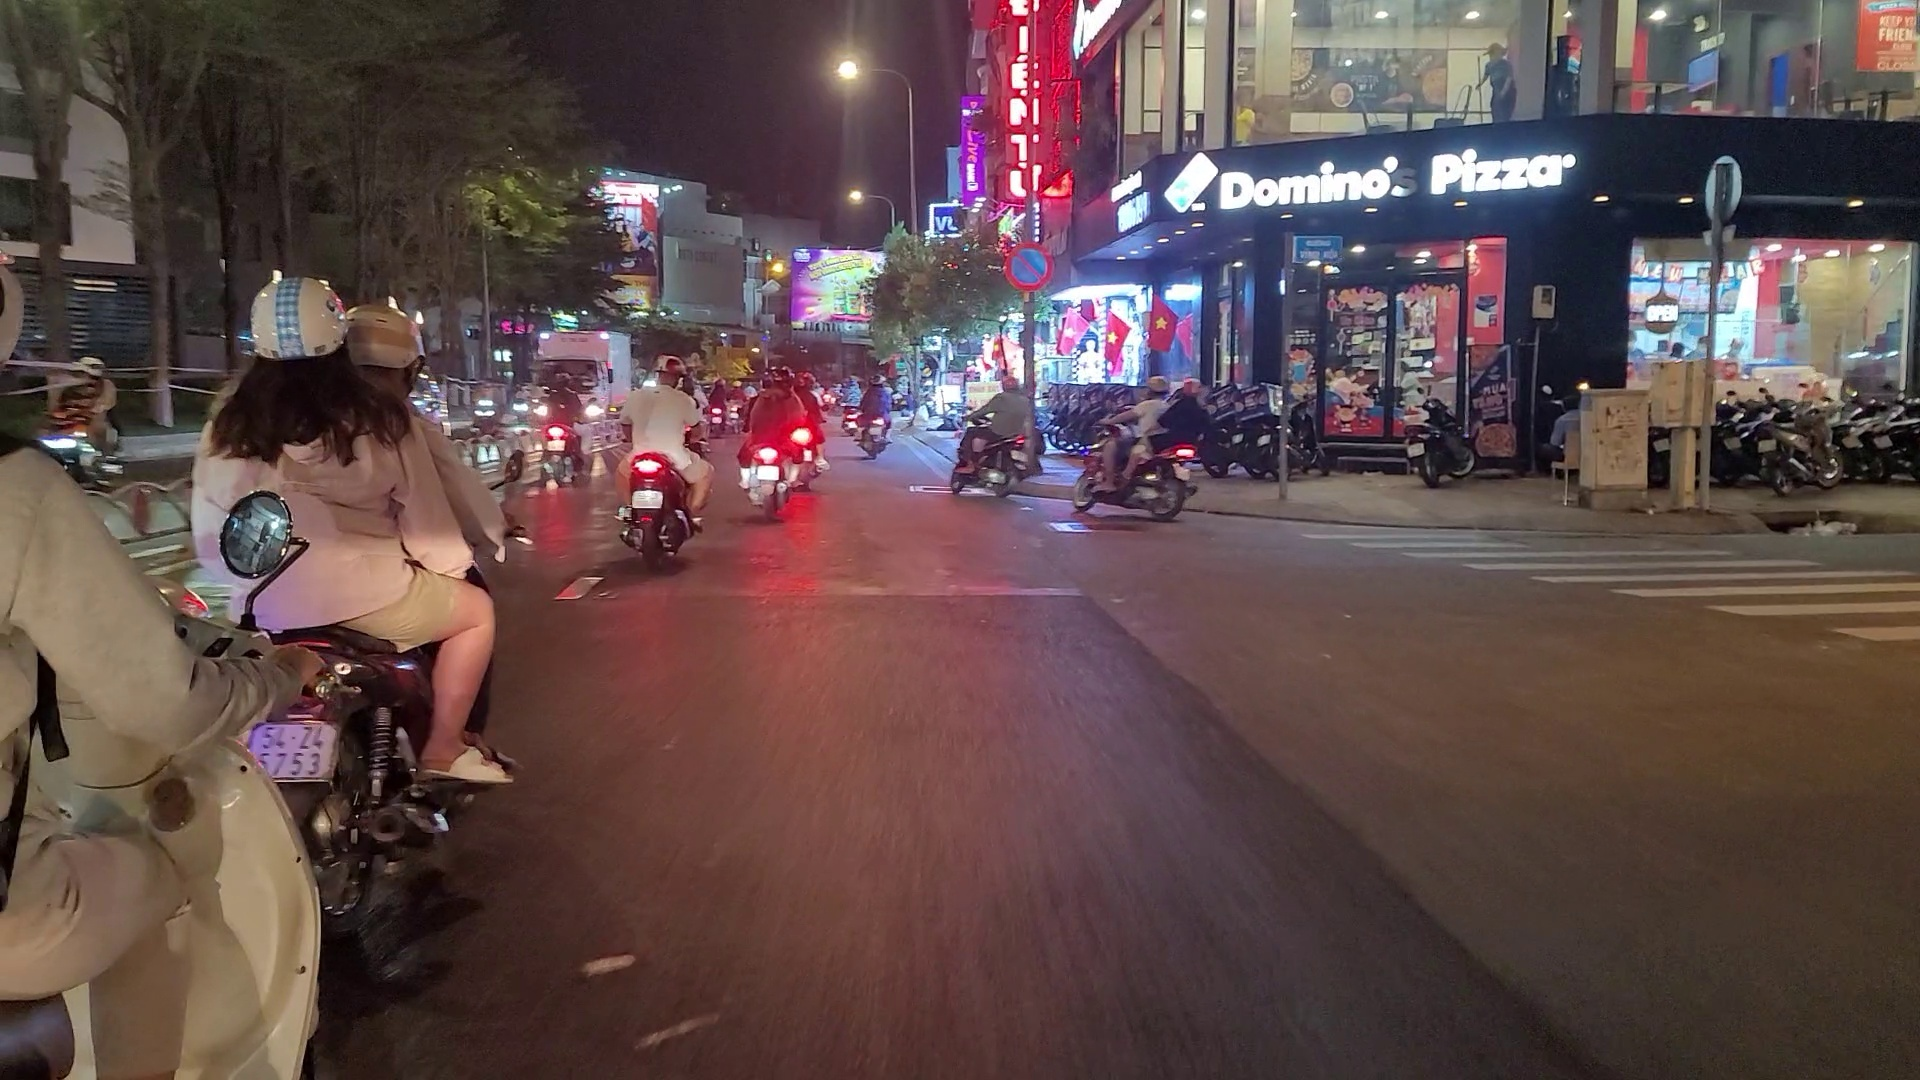Cam do xe: (1004, 240, 1054, 294)
